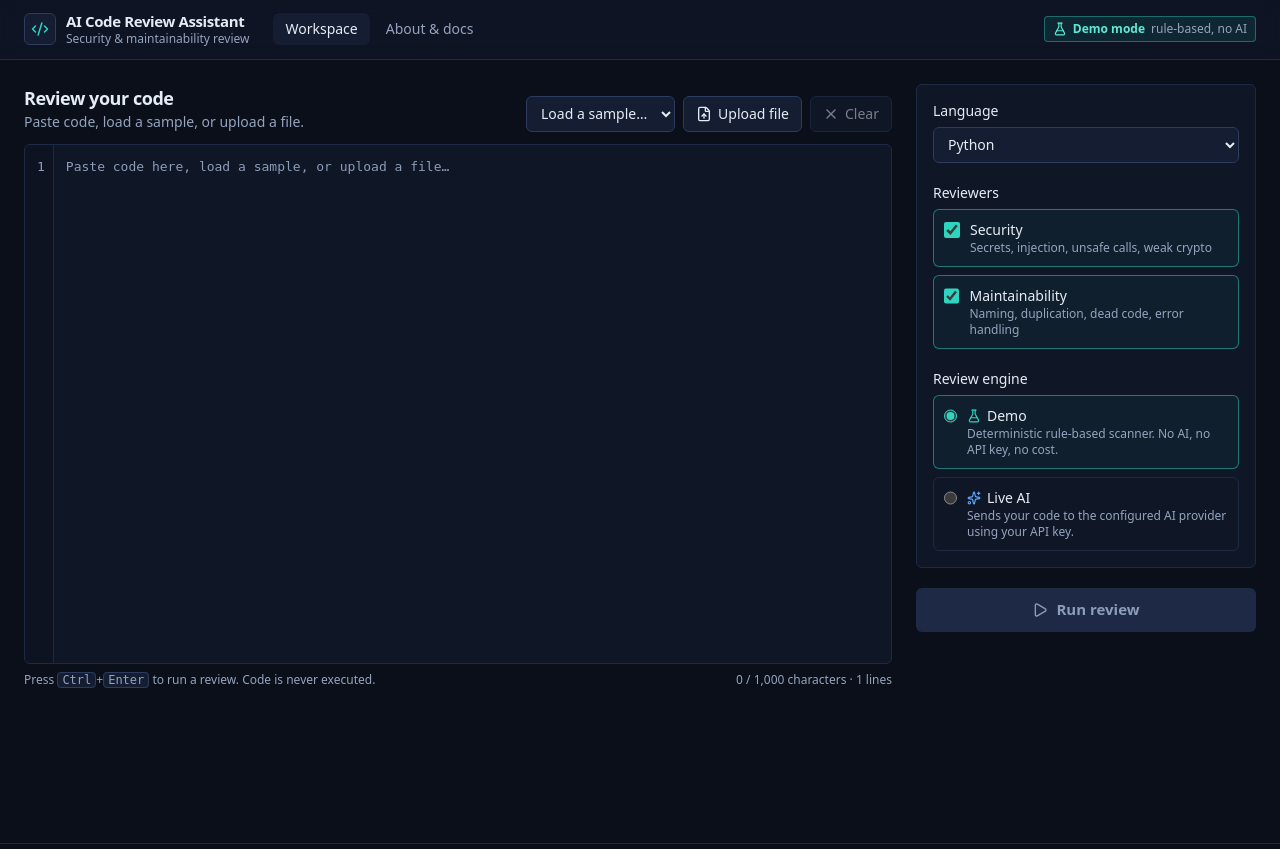
Test: review flow › flags partial results
The width and height of the screenshot is (1280, 849).
Type "x = 1" into the text box named "Code to review" at (472, 404), box [54,145,891,663]
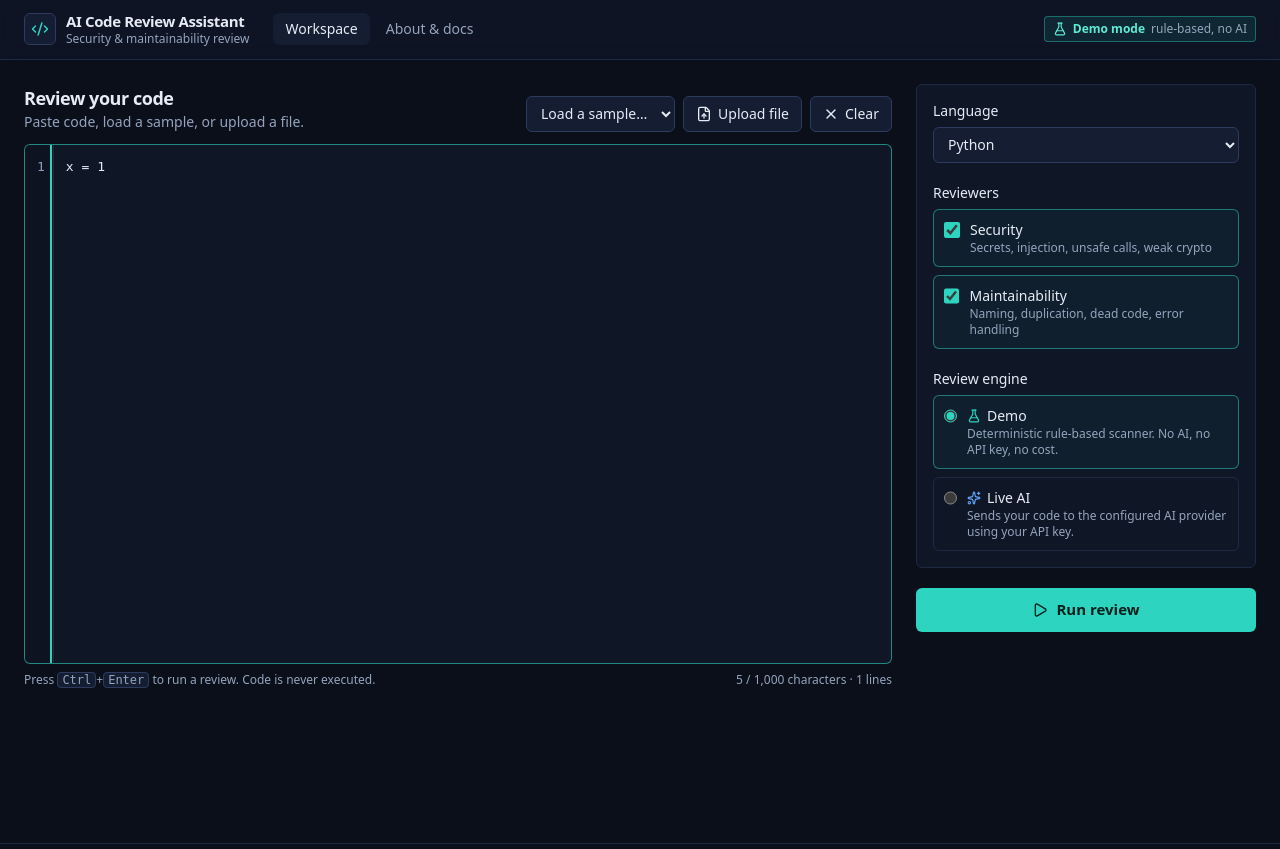
Click the button "Run review" at (1086, 610), box [916,588,1256,632]
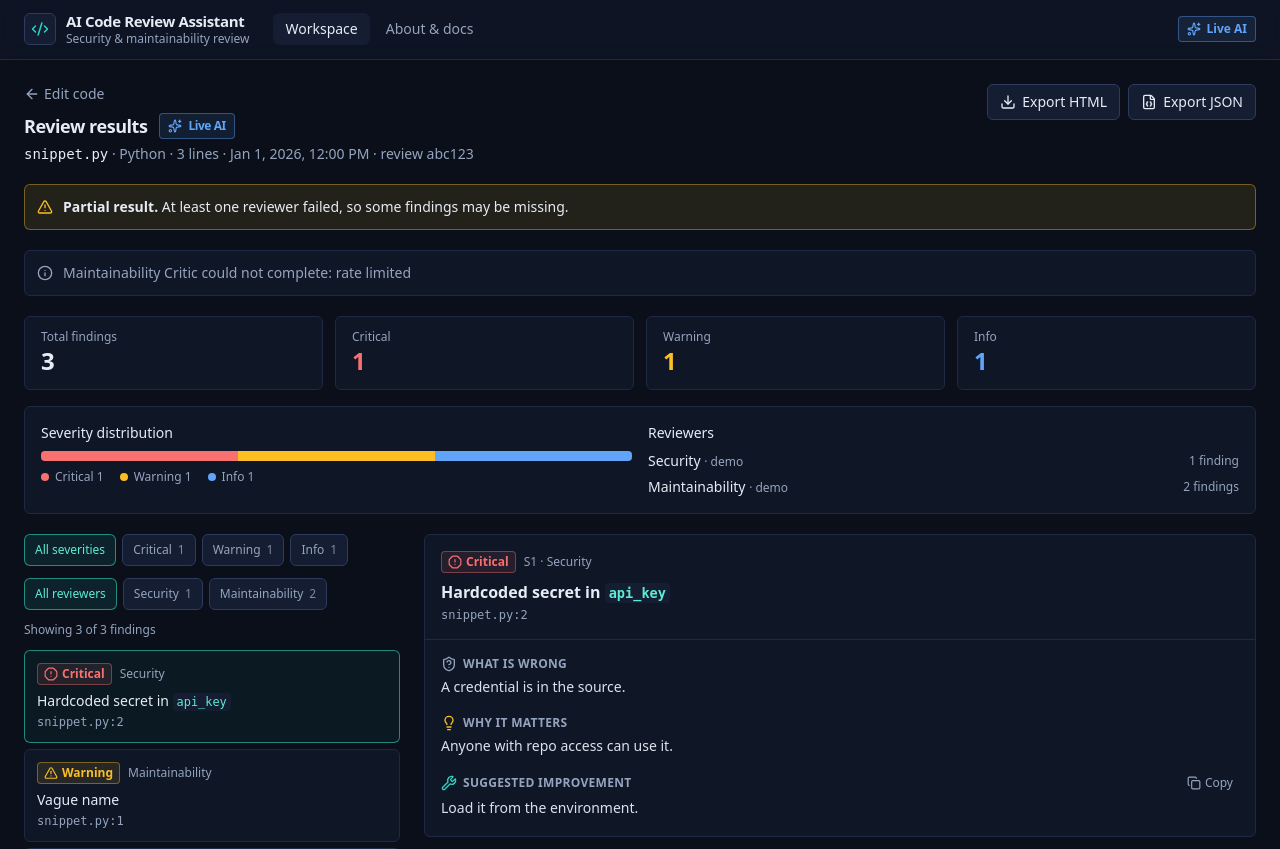
Result: the heading "Review results Live AI" is shown at [24,113,235,139]
Result: the text "Partial result." is shown at [63,197,158,216]
Result: the text "Maintainability Critic could not complete: rate limited" is shown at [63,263,411,283]
